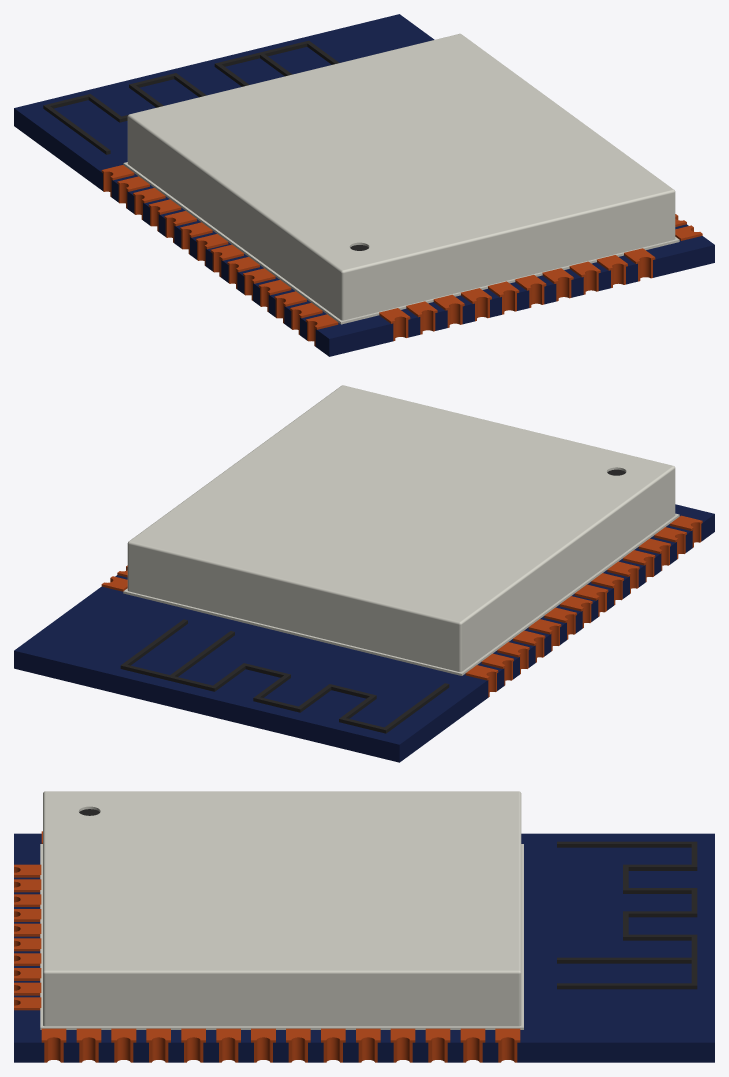
File: ESP32-WROOM-32.glb
3 views of the same model, one above another, from view 1: azimuth 30°, elevation 25°; view 2: azimuth 150°, elevation 25°; view 3: azimuth 270°, elevation 25° (orthographic). The views are drawn at different scales.
Visible parts, largest first — view 1: =>[0:1:1:3]; view 2: =>[0:1:1:3]; view 3: =>[0:1:1:3].
Part boxes in pixels (x1,y1,x2,y2): =>[0:1:1:3]: (14, 14, 714, 356); =>[0:1:1:3]: (14, 385, 714, 762); =>[0:1:1:3]: (14, 791, 714, 1062).
Bounding box in the file's own units: 0.018 × 0.0031 × 0.0255.
